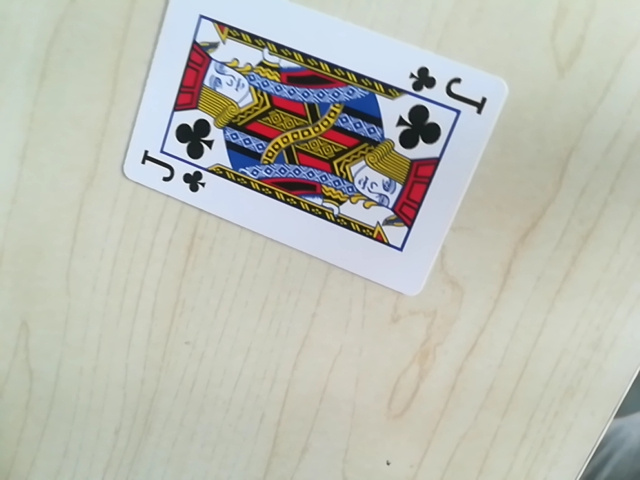mh j: (404, 63, 494, 107), (137, 155, 208, 194)
